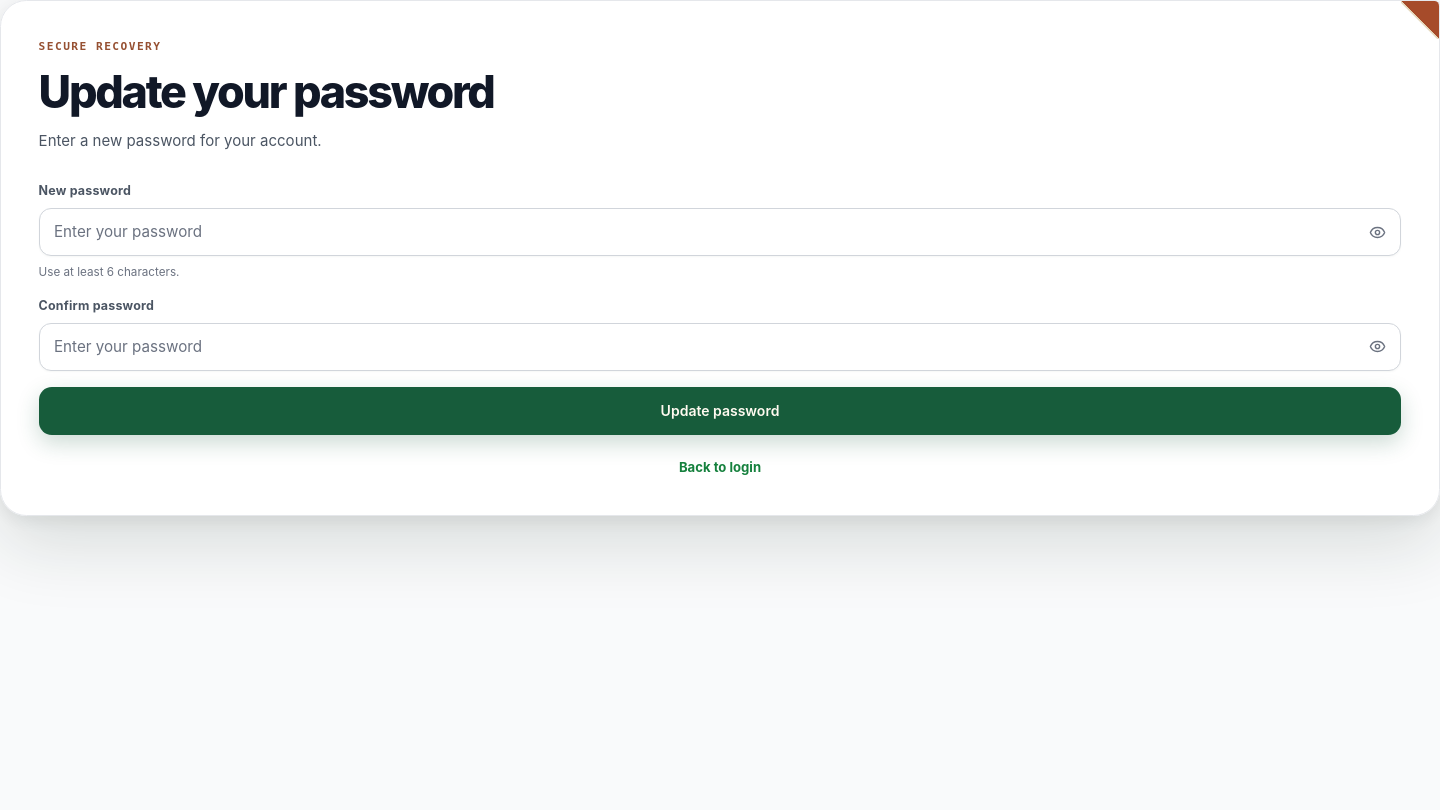
Test: UpdatePasswordForm › shows and focuses an inline mismatch error
The width and height of the screenshot is (1440, 810).
Type "password1" into the password field labelled "New password" at point(720, 232), box [39, 208, 1401, 256]
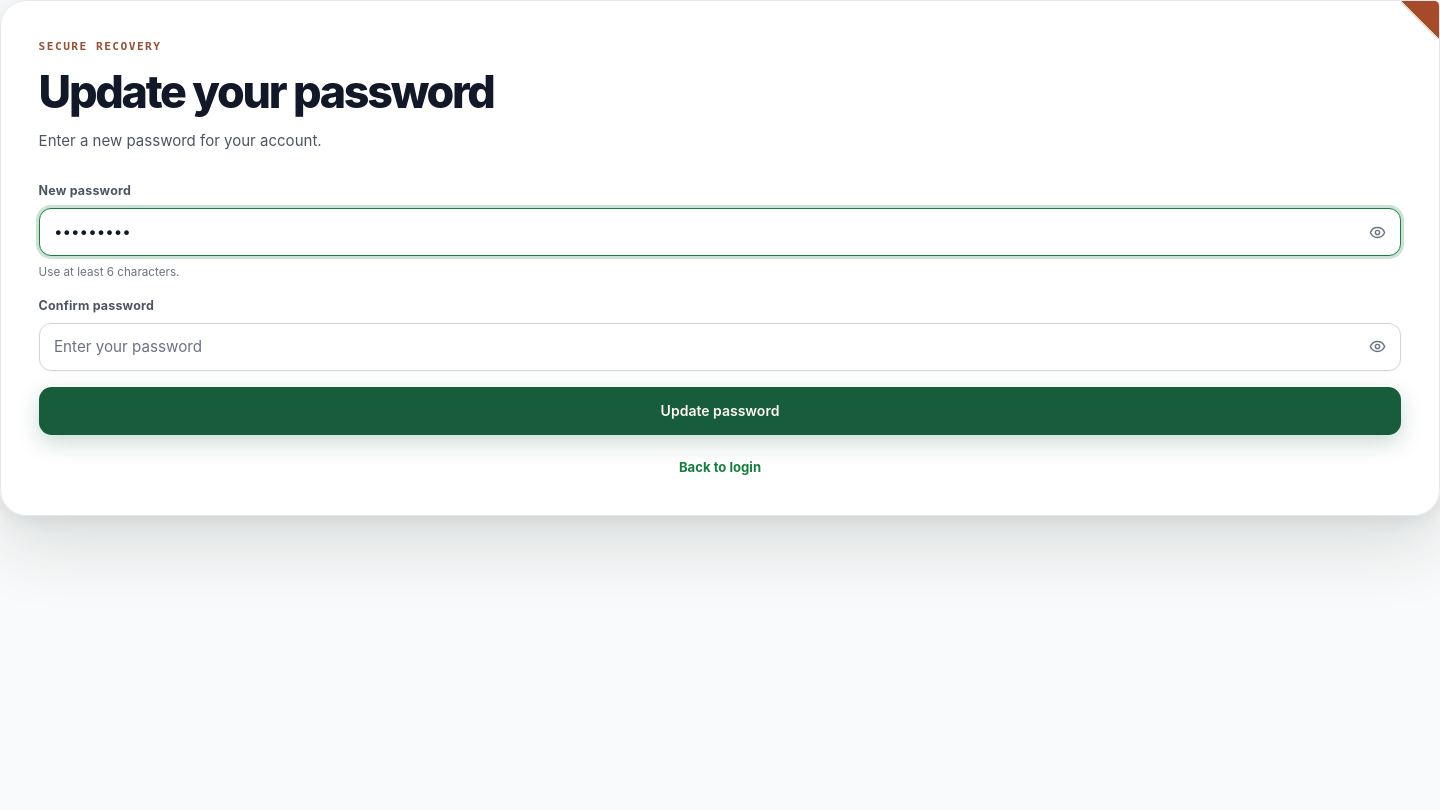
Type "password2" into the password field labelled "Confirm password" at point(720, 347), box [39, 322, 1401, 371]
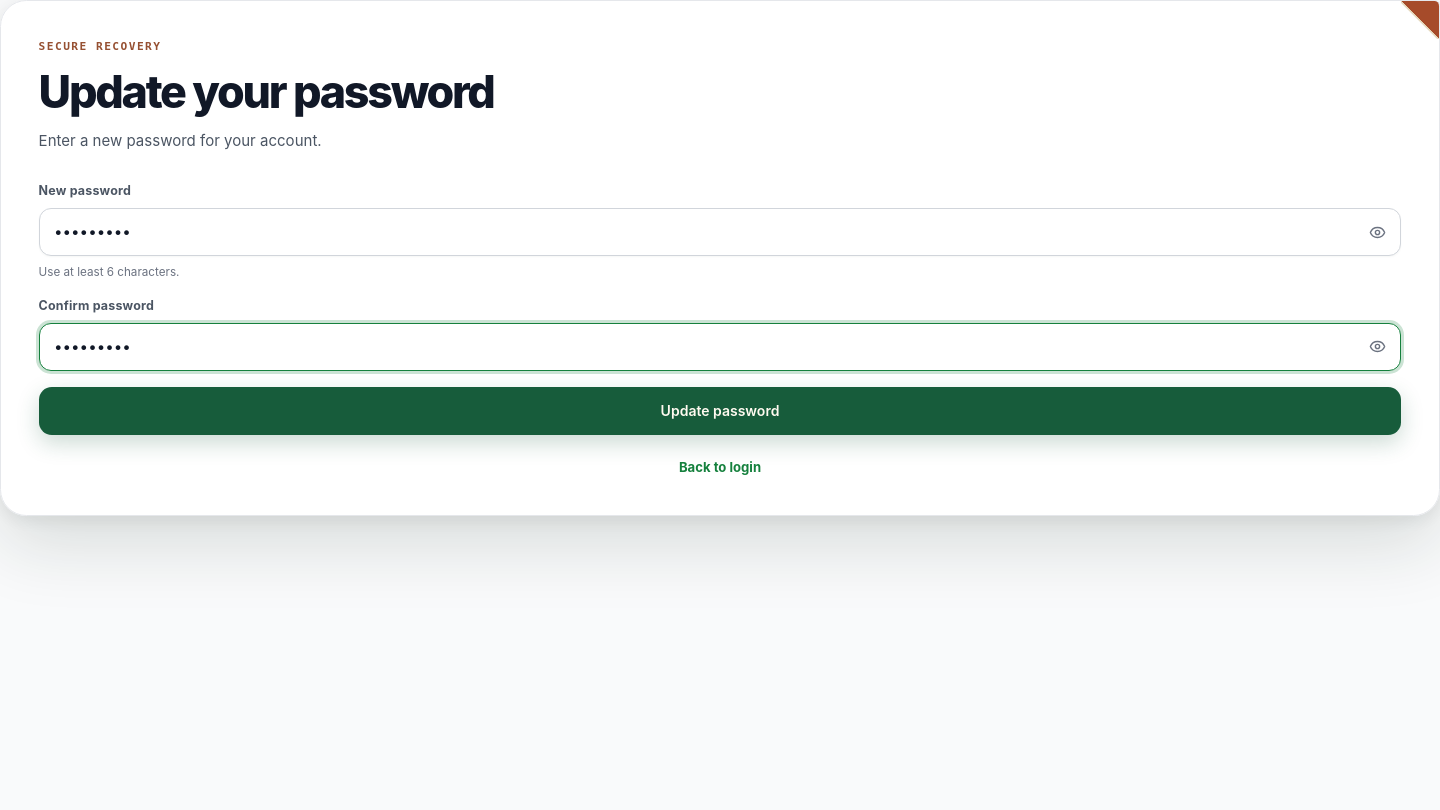
Click the button "Update password" at point(720, 411), box [39, 387, 1401, 435]
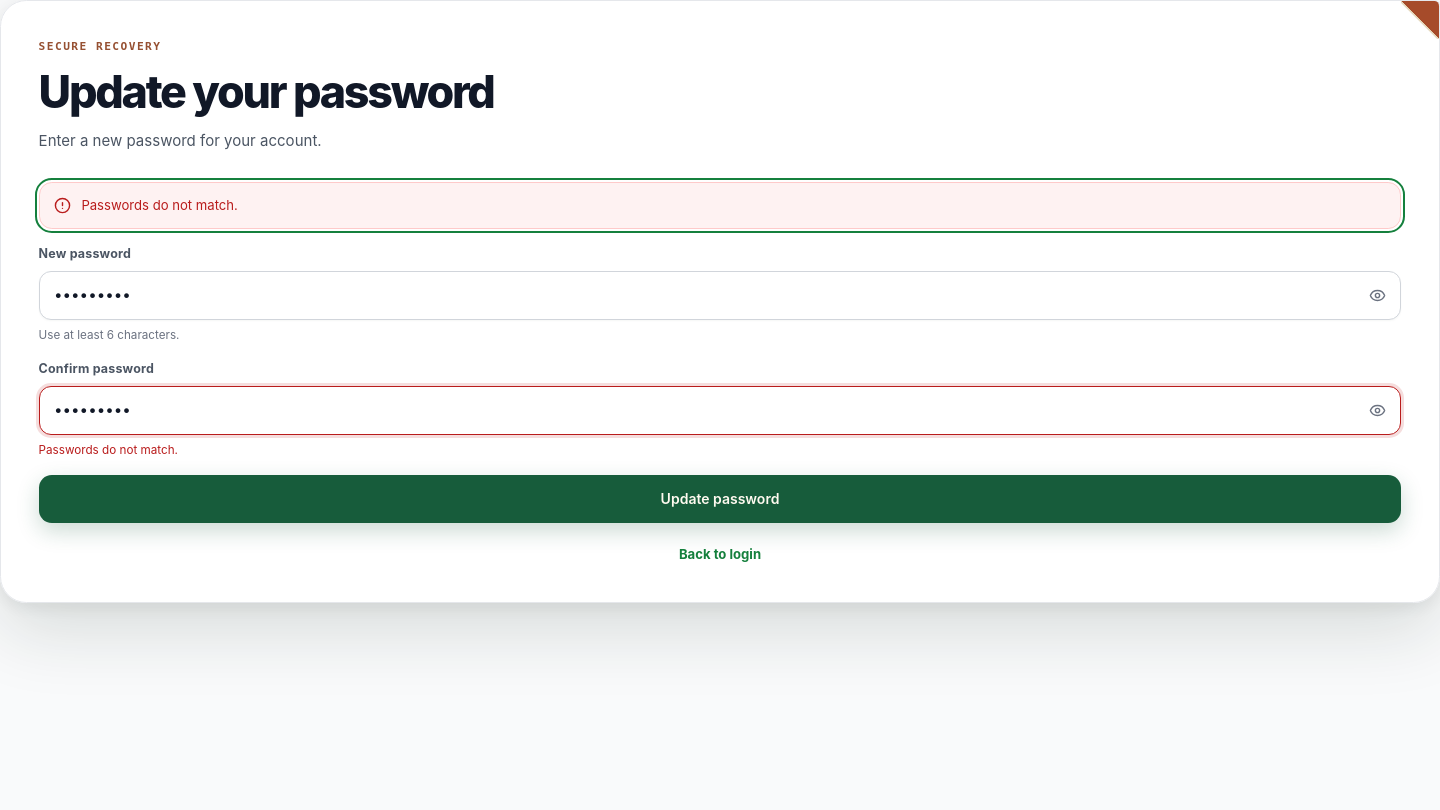
Check: the 1st text "Passwords do not match." is shown, box [81, 196, 238, 215]
